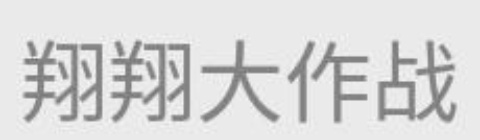TextView: (1, 1, 479, 139)
